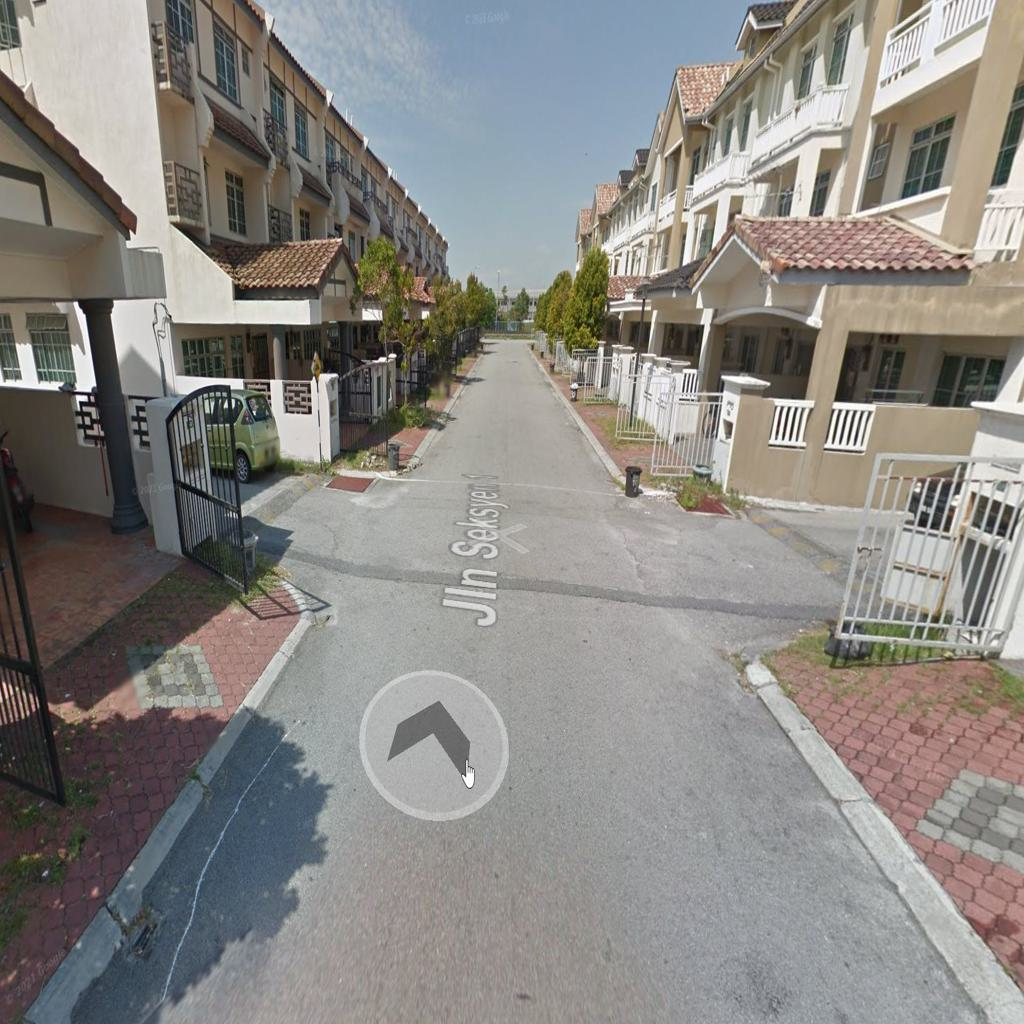Junction: (644, 461, 946, 680), (212, 414, 392, 598)
